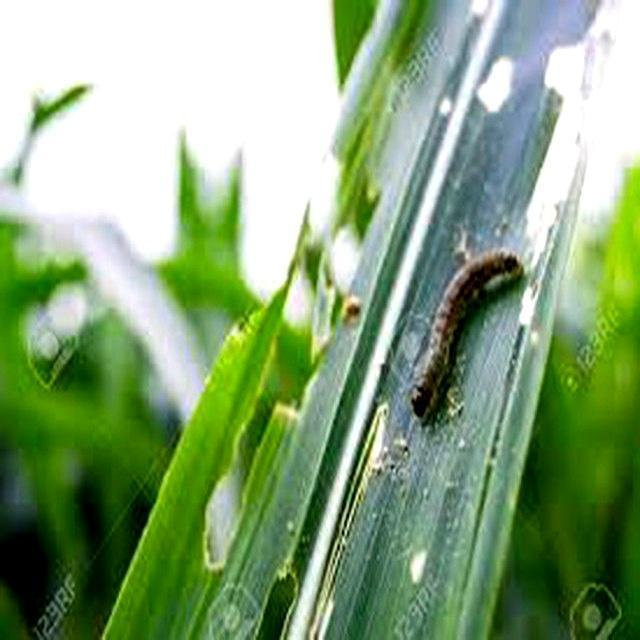gusano_cogollero: (409, 245, 525, 424)
